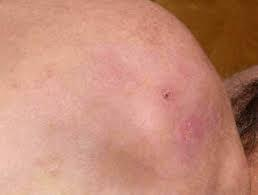Stage2: (135, 75, 211, 167)
